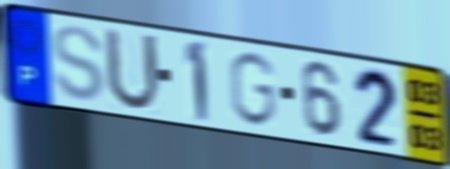1: (182, 39, 211, 125)
2: (351, 64, 405, 155)
6: (299, 59, 344, 139)
G: (226, 49, 278, 130)
S: (50, 22, 108, 104)
U: (102, 24, 164, 115)
